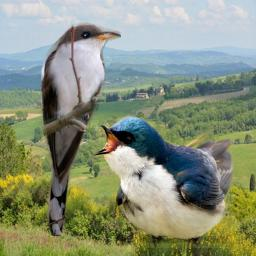Cuckoo: (39, 22, 121, 236)
Swallow: (89, 112, 234, 248)
